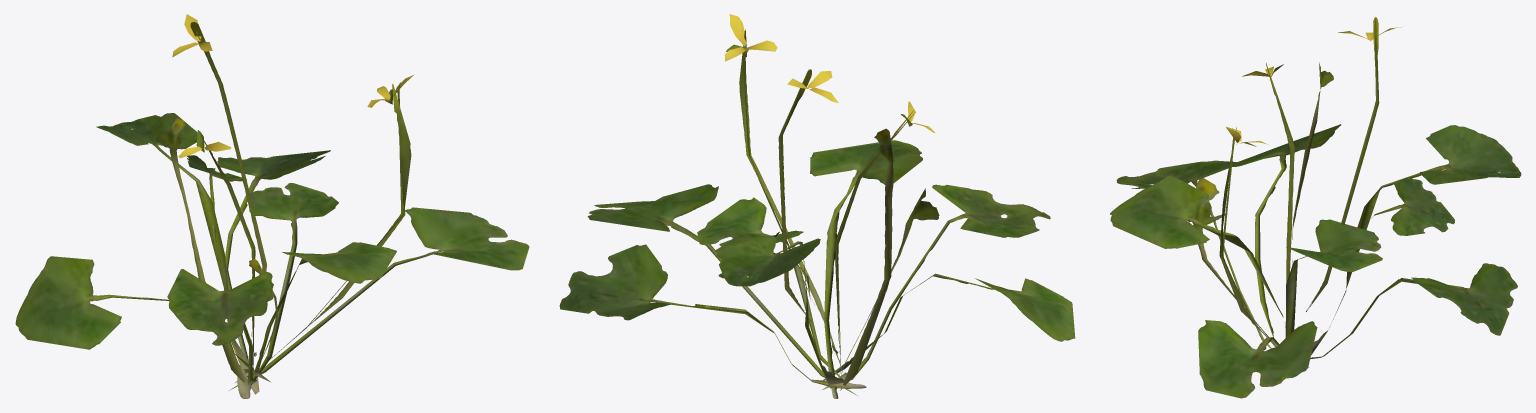
3 renders of one model, left to right at view 1: azimuth 30°, elevation 25°; view 2: azimuth 150°, elevation 25°; view 3: azimuth 270°, elevation 25°, orthographic. The views are drawn at different scales.
Parts seen in each view (by area): view 1: celandine_01__c_lod1; view 2: celandine_01__c_lod1; view 3: celandine_01__c_lod1.
Part boxes in pixels (x1,y1,x2,y2): celandine_01__c_lod1: (15,14,529,398); celandine_01__c_lod1: (559,14,1075,398); celandine_01__c_lod1: (1110,17,1521,398).
Size of the model in its own units: 0.2656 by 0.1792 by 0.1942.
1 material, 1 textured.
